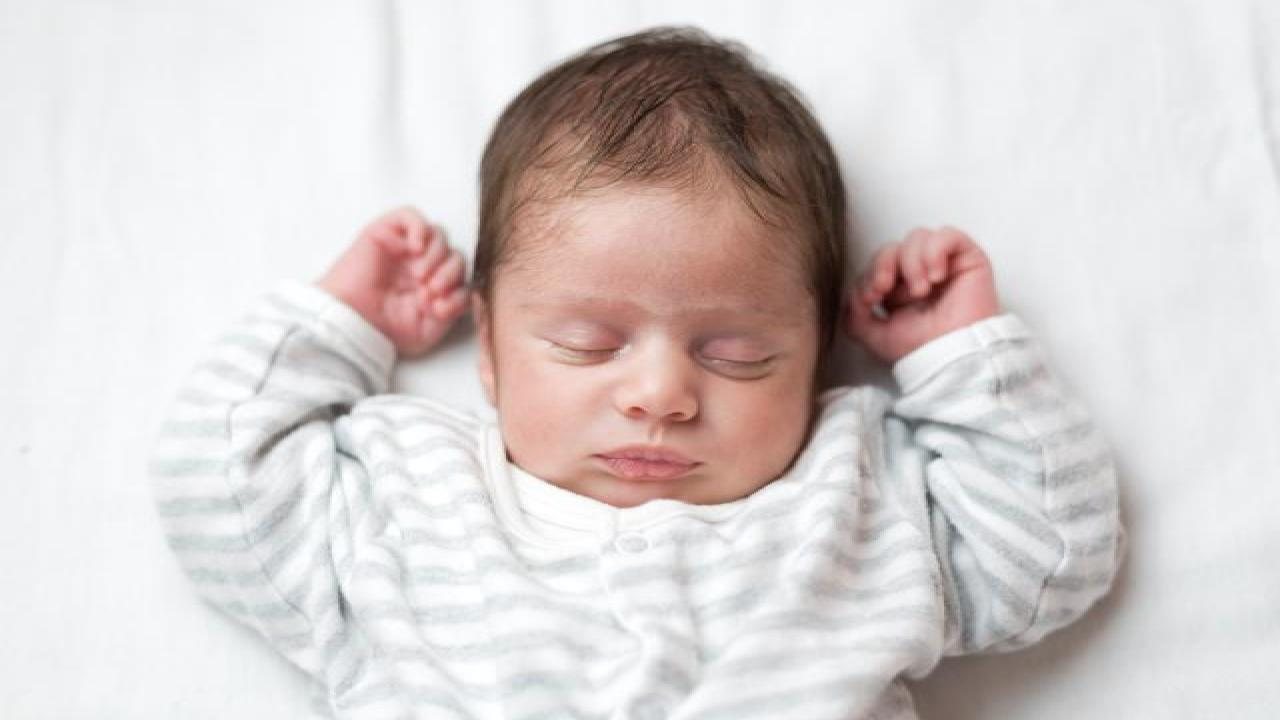hand: (331, 206, 480, 358), (844, 222, 1007, 349)
